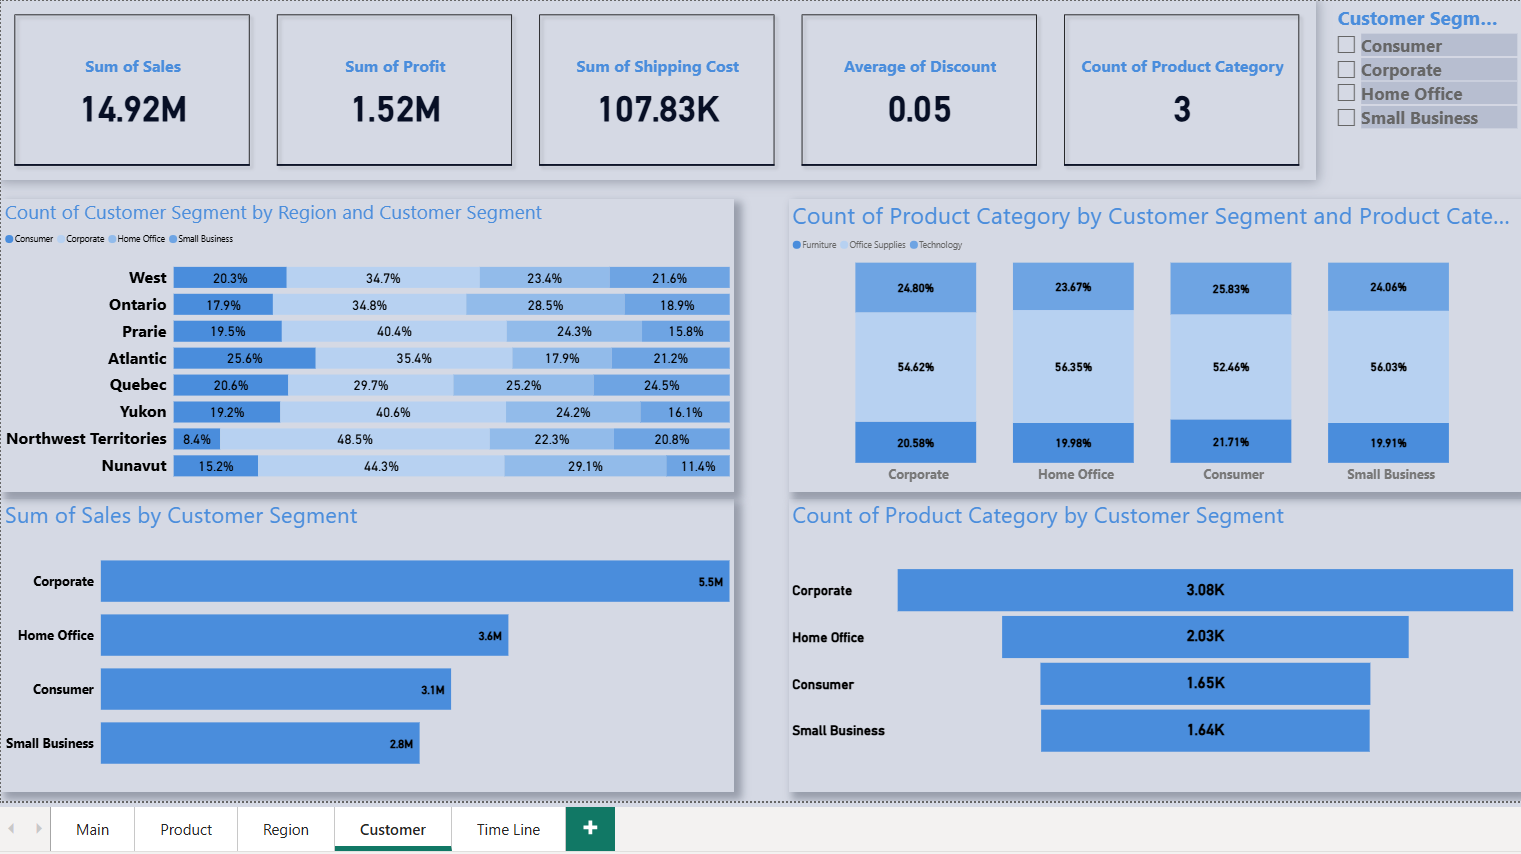

The page's visual inventory and layout, read from the dashboard file:
{"tool":"powerbi","page":{"name":"customer","canvas":[1900,1000],"ordinal":3},"visuals":[{"type":"actionButton","box":[0,0,100,40],"z":0},{"type":"cardVisual","fields":{"Data":["Sum(Final Data.Sales)","Sum(Final Data.Profit)","Sum(Final Data.Shipping Cost)","Avg(Final Data.Discount)","Count(Final Data.Product Category)"]},"box":[0,0,1642.9,223.2],"z":1000},{"type":"hundredPercentStackedBarChart","fields":{"Category":["Final Data.Region"],"Y":["CountNonNull(Final Data.Customer Segment)"],"Series":["Final Data.Customer Segment"]},"box":[0,246.4,916.1,366.1],"z":2000},{"type":"hundredPercentStackedColumnChart","fields":{"Y":["CountNonNull(Final Data.Product Category)"],"Category":["Final Data.Customer Segment"],"Series":["Final Data.Product Category"]},"box":[983.9,246.4,916.1,366.1],"z":3000},{"type":"barChart","fields":{"Y":["Sum(Final Data.Sales)"],"Category":["Final Data.Customer Segment"]},"box":[0,622,916,366],"z":4000},{"type":"funnel","fields":{"Category":["Final Data.Customer Segment"],"Y":["CountNonNull(Final Data.Product Category)"]},"box":[984,622,916,366],"z":5000},{"type":"slicer","fields":{"Values":["Final Data.Customer Segment"]},"box":[1657.1,0,242.9,223.2],"z":6000}]}

Visuals, with their boxes on the page's 1900x1000 design canvas (x1, y1, x2, y2). These are canvas units, not pixel positions in the 1521x854 screenshot, which may show the page scaled, cropped or inside an application window:
actionButton: x1=0 y1=0 x2=100 y2=40
cardVisual - Sum(Final Data.Sales) x Sum(Final Data.Profit): x1=0 y1=0 x2=1643 y2=223
hundredPercentStackedBarChart - Final Data.Region x CountNonNull(Final Data.Customer Segment): x1=0 y1=246 x2=916 y2=612
hundredPercentStackedColumnChart - CountNonNull(Final Data.Product Category) x Final Data.Customer Segment: x1=984 y1=246 x2=1900 y2=612
barChart - Sum(Final Data.Sales) x Final Data.Customer Segment: x1=0 y1=622 x2=916 y2=988
funnel - Final Data.Customer Segment x CountNonNull(Final Data.Product Category): x1=984 y1=622 x2=1900 y2=988
slicer - Final Data.Customer Segment: x1=1657 y1=0 x2=1900 y2=223
